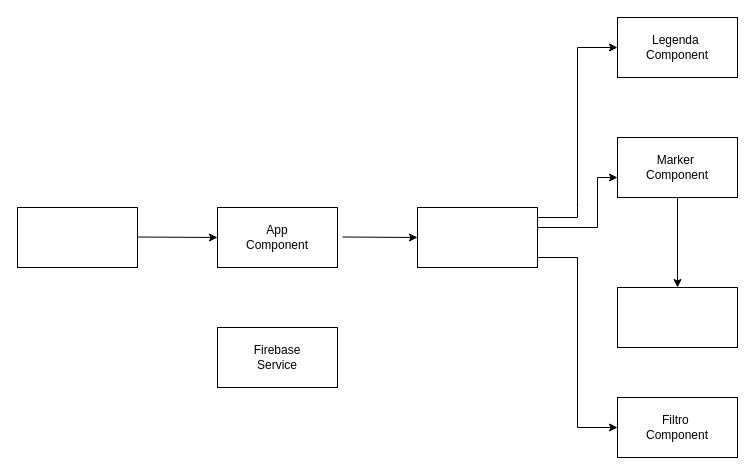
Some shapes in this 755 by 475 pixel diagram are drawn without their labels. The shapes that lost their labels are listed below. From the top down, each one's box as (x1, y1, x2, y2) in pixels, then its label:
(16, 206, 138, 268): index.html
(416, 206, 538, 268): Mappa Component
(616, 286, 738, 348): Modifica UHI Component
